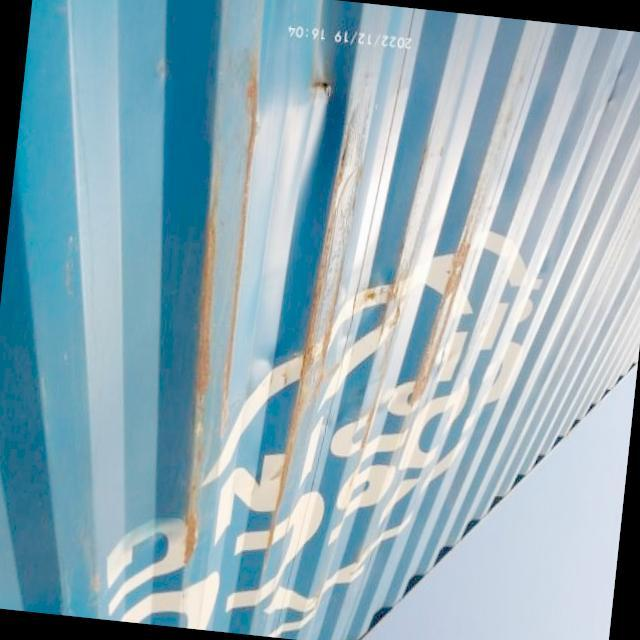rust: (156, 70, 271, 570), (303, 152, 366, 405)
